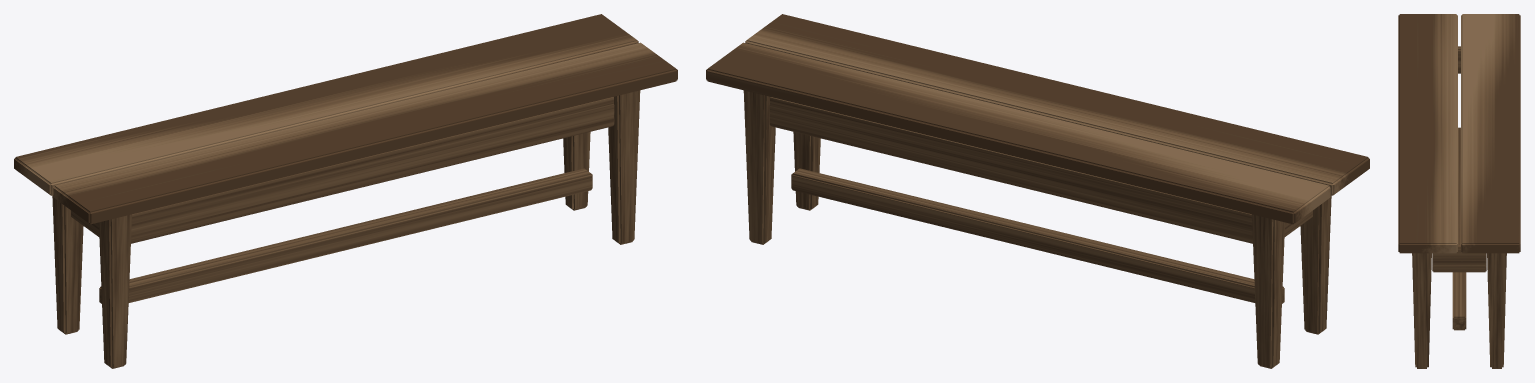
The model's file is bench_wood.glb.
3 renders of one model, left to right at view 1: azimuth 30°, elevation 25°; view 2: azimuth 150°, elevation 25°; view 3: azimuth 270°, elevation 25°, orthographic. The views are drawn at different scales.
Parts seen in each view (by area): view 1: Bench Wood; view 2: Bench Wood; view 3: Bench Wood.
Boxes of the visible parts, x1,y1,x2,y2 form: Bench Wood: [14, 14, 677, 368]; Bench Wood: [706, 14, 1369, 368]; Bench Wood: [1398, 14, 1520, 368].
Size of the model in its own units: 0.8 by 0.2249 by 0.18.
1 material, 1 textured.
